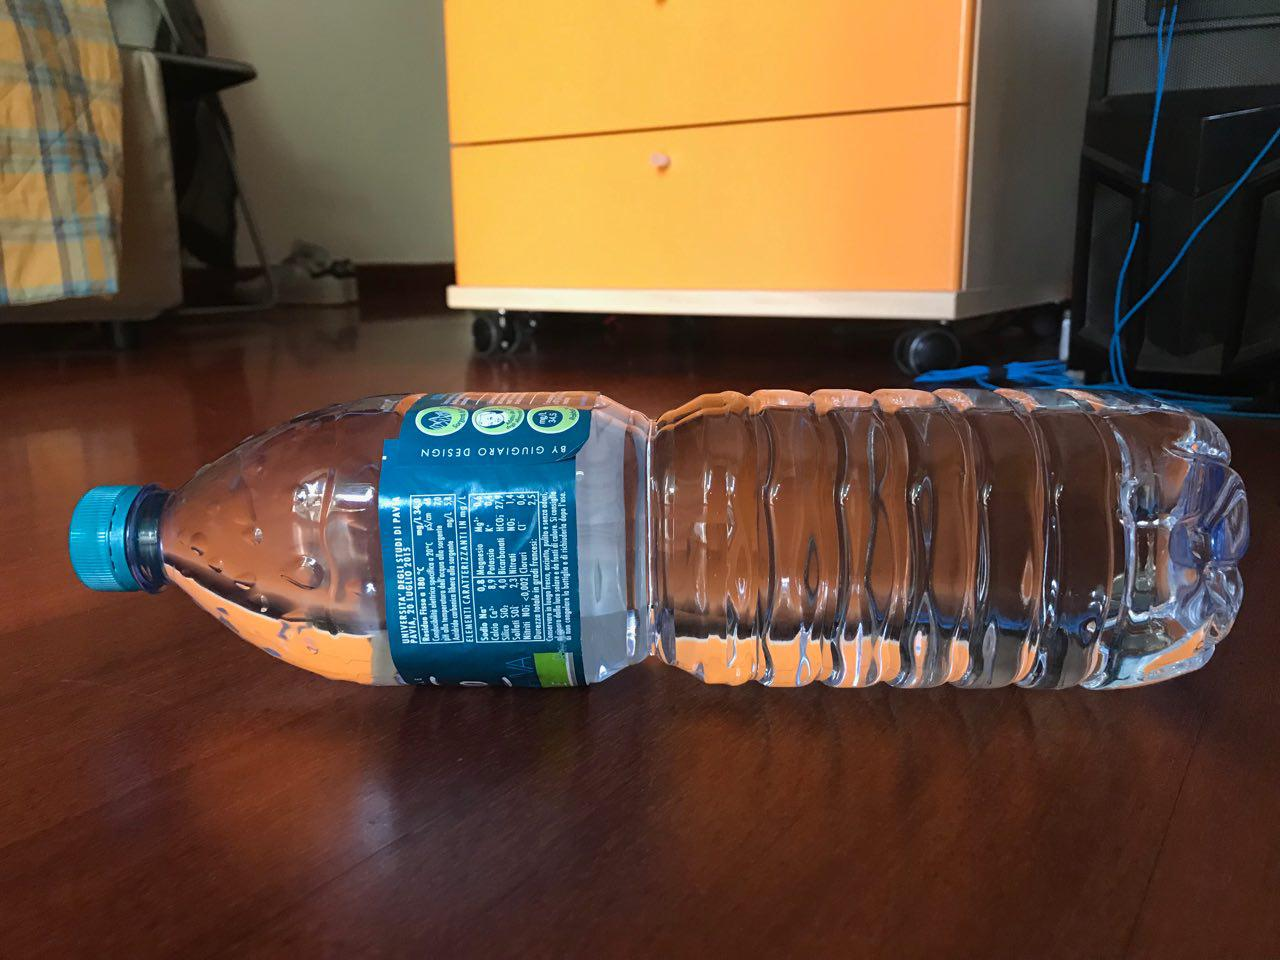san_bernardo: (66, 387, 1252, 695)
